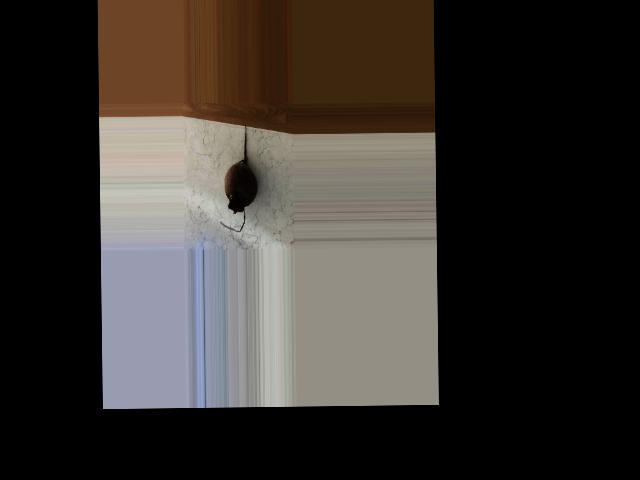beet: (219, 123, 258, 231)
